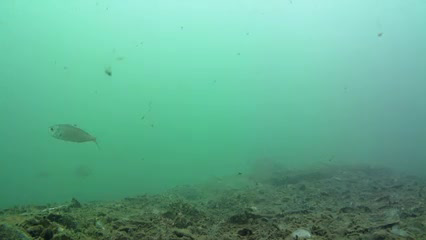smallfish: (47, 122, 100, 145)
